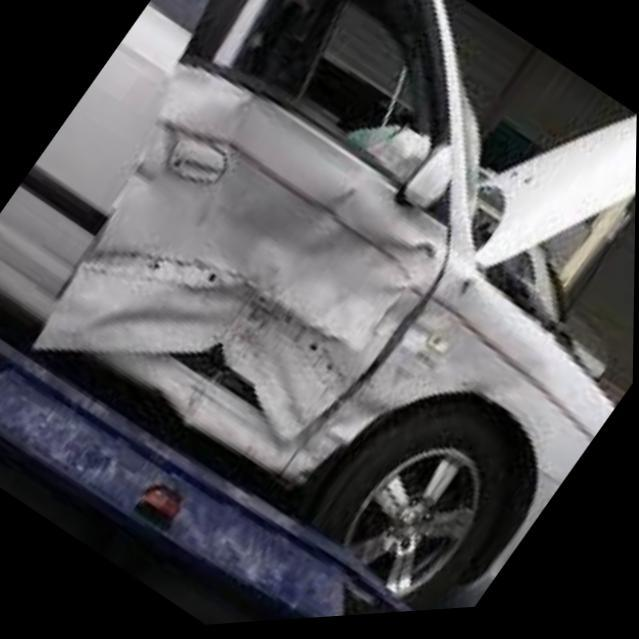dent: (15, 57, 576, 480)
